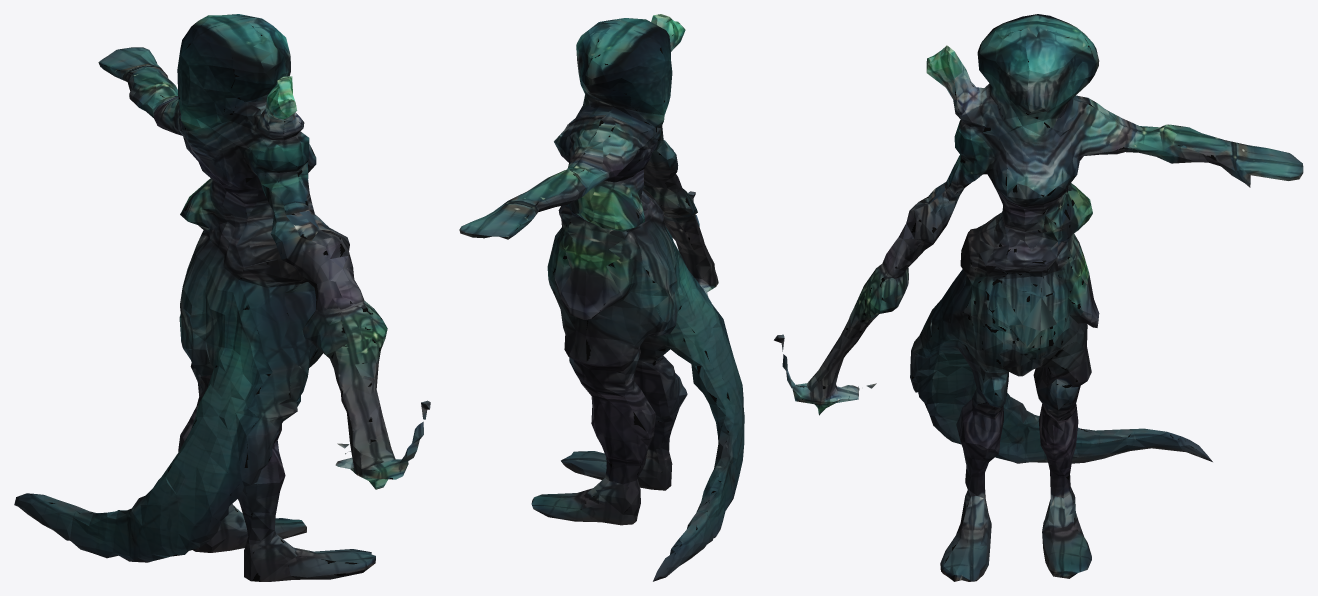
File: monster_cat_2.glb
3 renders of one model, left to right at view 1: azimuth 30°, elevation 25°; view 2: azimuth 150°, elevation 25°; view 3: azimuth 270°, elevation 25°, orthographic. The views are drawn at different scales.
Visible parts, largest first — view 1: zzzz7; view 2: zzzz7; view 3: zzzz7.
Boxes of the visible parts, x1,y1,x2,y2 form: zzzz7: (14,14,430,581); zzzz7: (459,14,744,581); zzzz7: (774,14,1303,581).
Size of the model in its own units: 1.14 by 2.4 by 2.22.
Materials: 1 (1 with a texture image).
